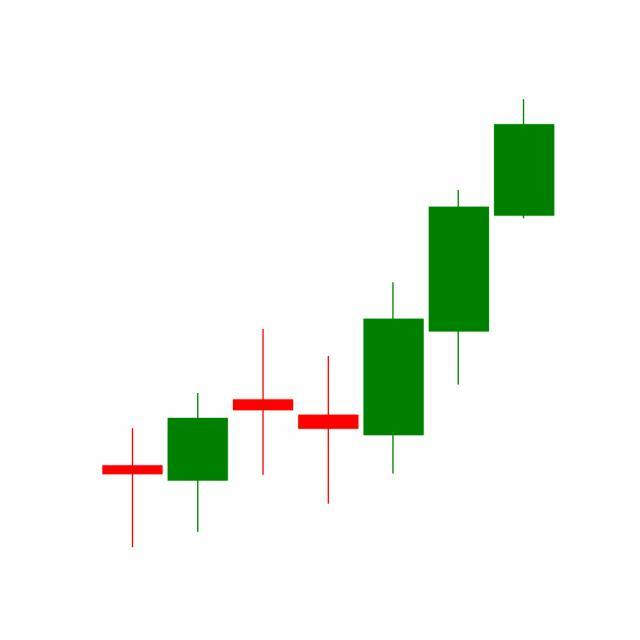Three Outside Up-Down: (295, 187, 492, 509)
